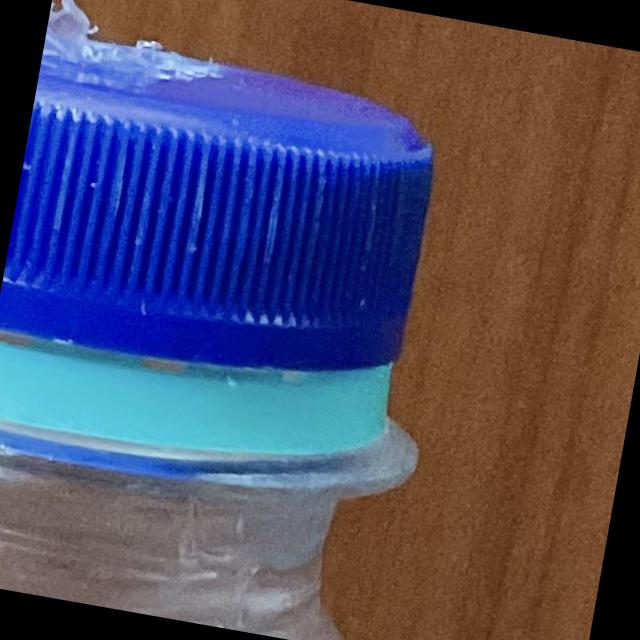Good-cap-Df0S: (0, 6, 486, 519)
